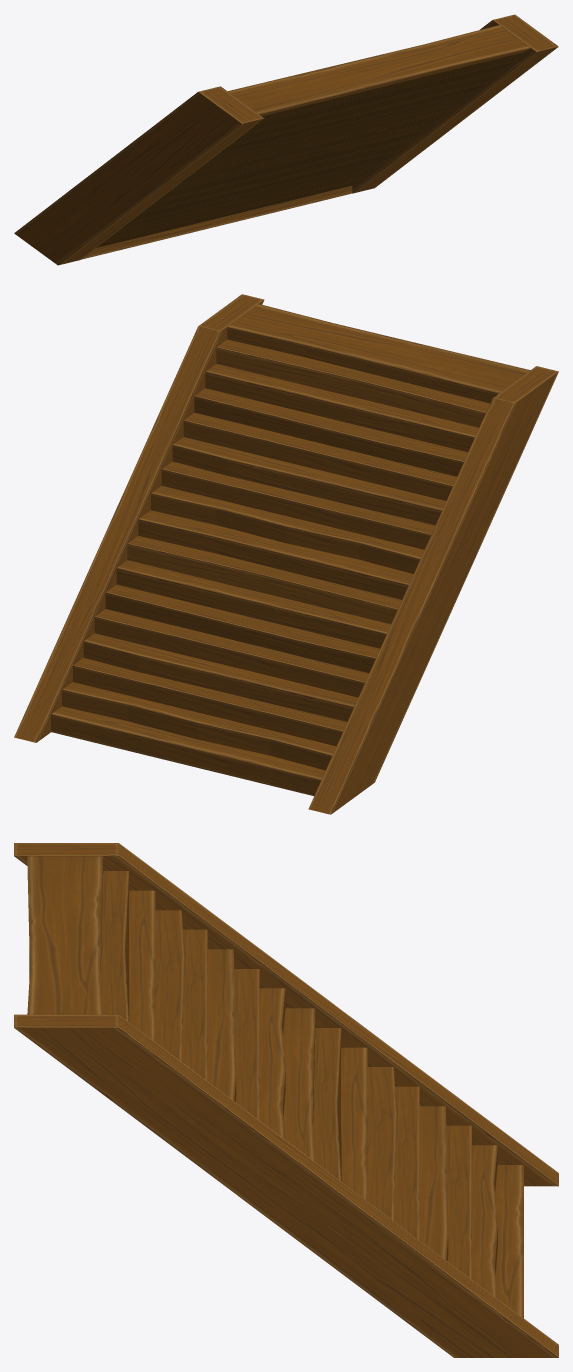
Rendered from SM_Stairs_Interior_C_02.fbx.
3 views of the same model, one above another, from view 1: azimuth 30°, elevation 25°; view 2: azimuth 150°, elevation 25°; view 3: azimuth 270°, elevation 25° (orthographic). The views are drawn at different scales.
Parts seen in each view (by area): view 1: SM_Stairs_Interior_C_02; view 2: SM_Stairs_Interior_C_02; view 3: SM_Stairs_Interior_C_02.
Boxes of the visible parts, x1=… form: SM_Stairs_Interior_C_02: x1=14, y1=14, x2=558, y2=265; SM_Stairs_Interior_C_02: x1=14, y1=294, x2=558, y2=814; SM_Stairs_Interior_C_02: x1=14, y1=843, x2=558, y2=1357.
Size of the model in its own units: 3 by 2.5 by 3.74.
